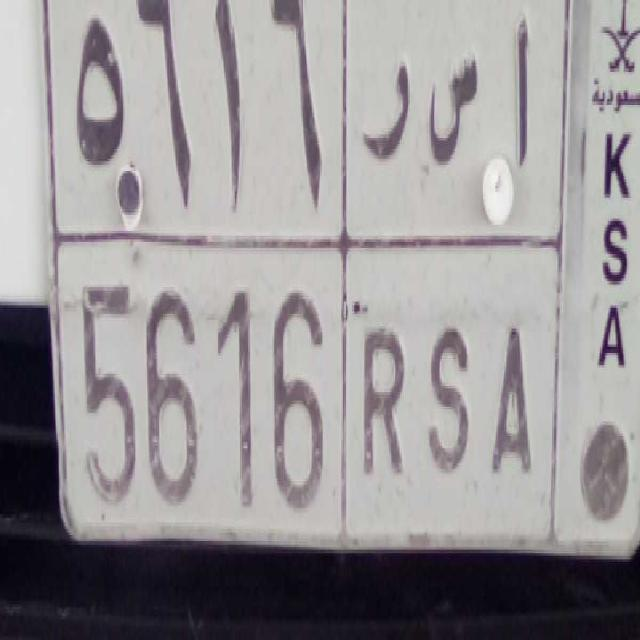license_plate: (64, 228, 548, 570)
